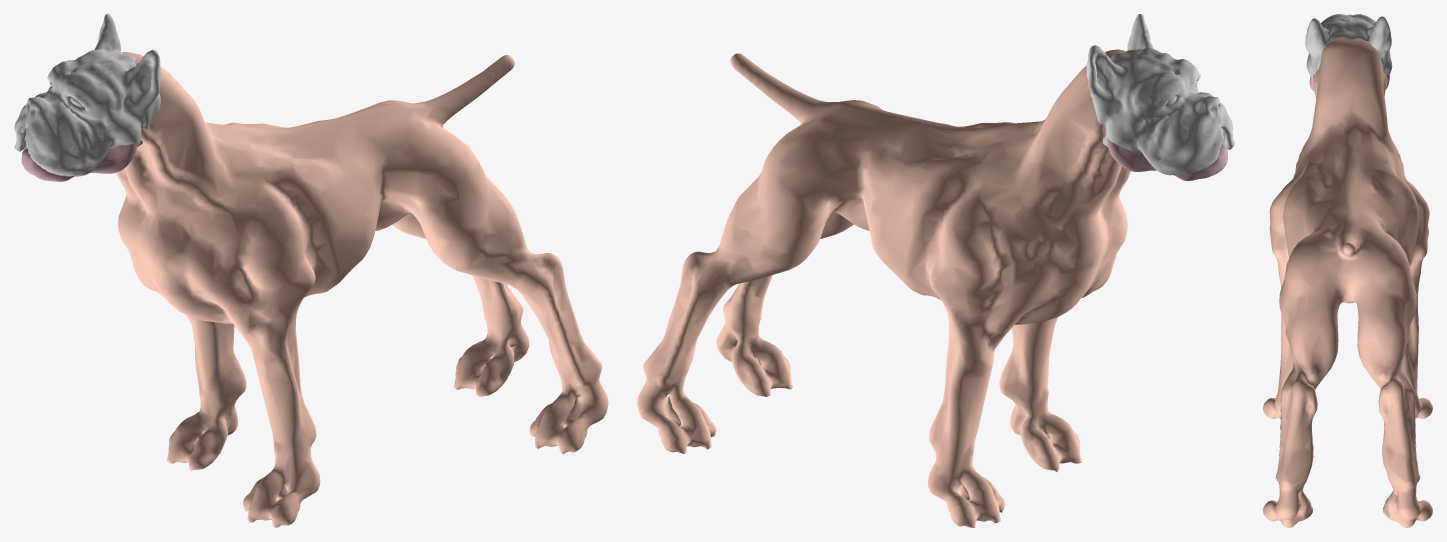
The model's file is pitbull.obj.
The picture shows the model from 3 angles, left to right: view 1: azimuth 30°, elevation 25°; view 2: azimuth 150°, elevation 25°; view 3: azimuth 270°, elevation 25°; orthographic projection. The views are drawn at different scales.
Parts seen in each view (by area): view 1: cordog, tetedog, machoir; view 2: cordog, tetedog, machoir; view 3: cordog, tetedog.
Boxes of the visible parts, x1,y1,x2,y2 form: cordog: (115,52,608,527); tetedog: (14,14,161,176); machoir: (21,143,137,181); cordog: (637,49,1130,527); tetedog: (1086,14,1234,175); machoir: (1106,137,1227,180); cordog: (1263,37,1432,527); tetedog: (1305,14,1392,81).
Bounding box in the file's own units: 64.28 × 54.63 × 23.08.
